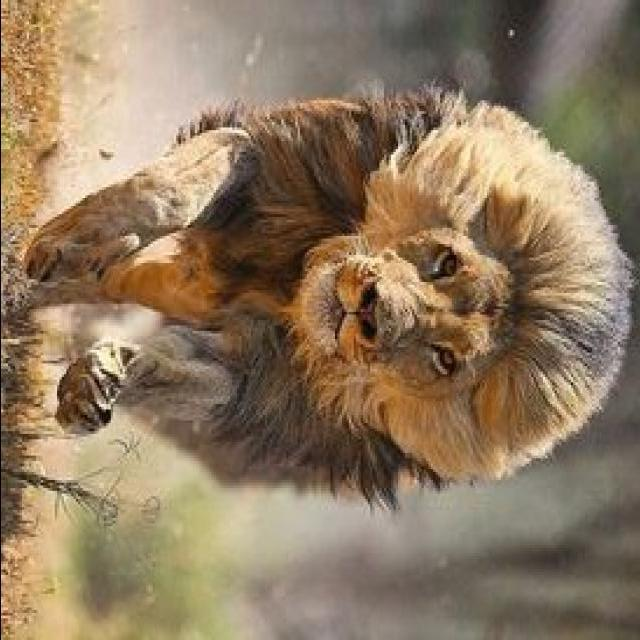lions: (25, 64, 640, 578)
